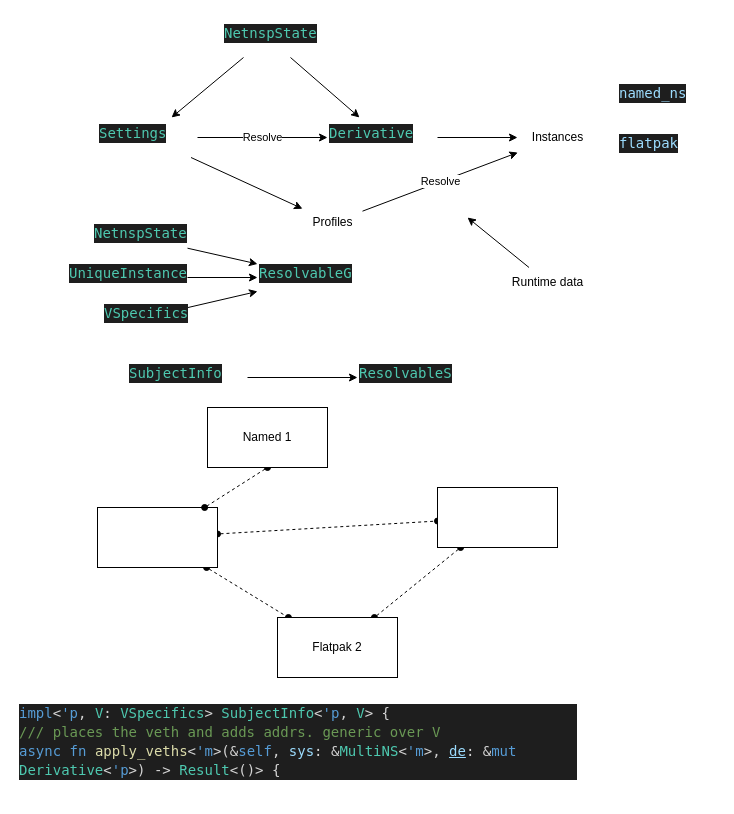
Image size: 734x814. Some labels were removed from this diagram. Here are the shapes that lost their labels. From the top down, the centre of each, then its label:
the point at 157,537: Root NS
the point at 497,517: Flatpak 1
